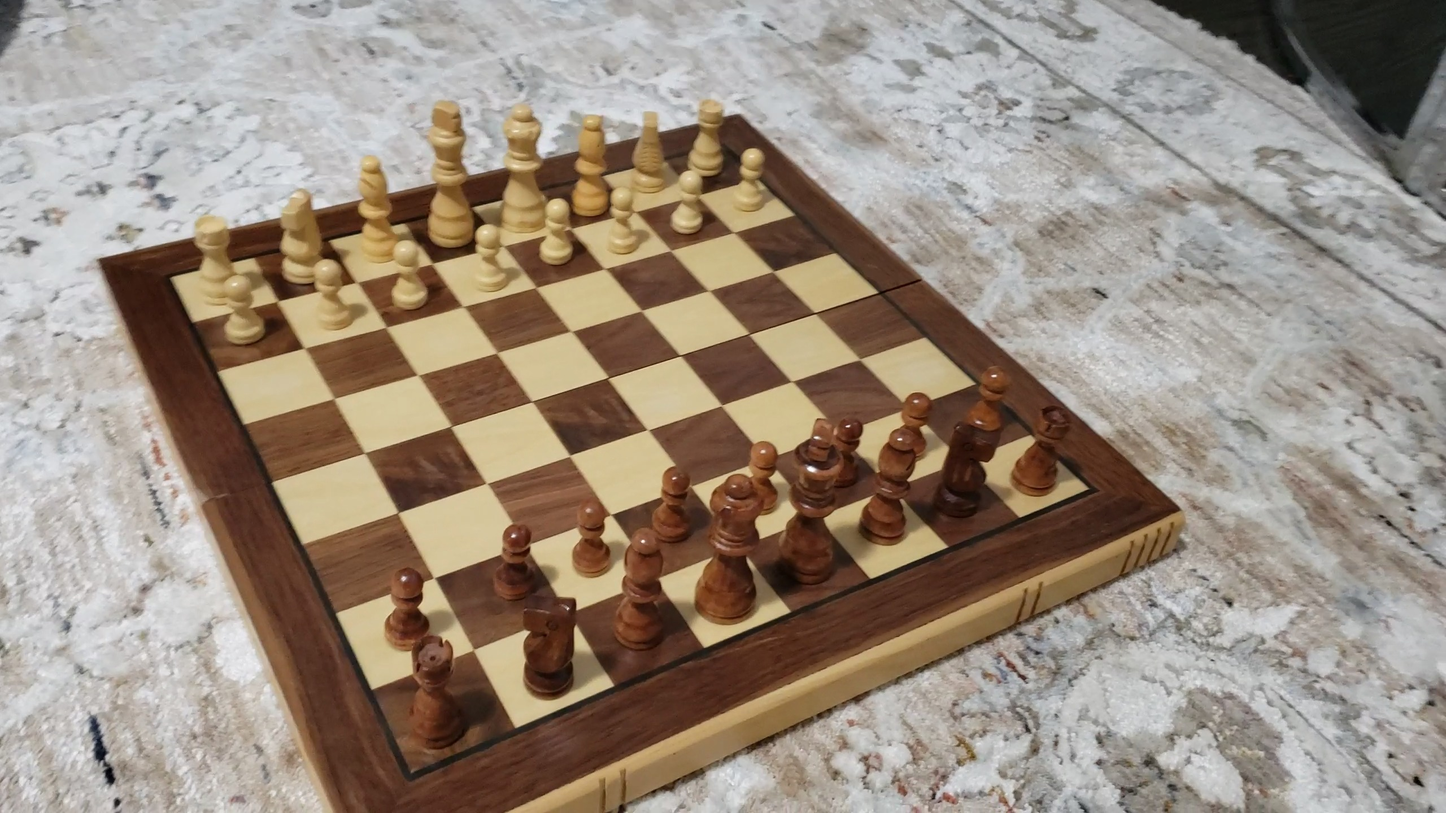black-bishop: (861, 428, 921, 545), (616, 530, 666, 651)
black-king: (779, 432, 847, 587)
black-knight: (932, 419, 1001, 518), (521, 596, 577, 698)
black-pawn: (382, 564, 432, 653), (491, 521, 537, 603), (737, 436, 782, 515), (570, 499, 612, 579), (967, 360, 1011, 436), (654, 462, 694, 544), (891, 388, 935, 458), (829, 413, 865, 487)
black-queen: (695, 473, 763, 626)
black-rook: (406, 636, 467, 751), (1011, 404, 1074, 499)
white-bishop: (354, 151, 395, 264), (570, 110, 609, 220)
white-king: (425, 95, 474, 250)
white-knight: (276, 186, 323, 286), (632, 106, 668, 195)
white-pawn: (212, 270, 273, 351), (382, 223, 434, 316), (303, 255, 356, 336), (598, 180, 648, 260), (464, 220, 516, 296), (663, 163, 711, 240), (533, 195, 580, 271), (726, 143, 774, 217)
white-queen: (500, 100, 547, 234)
white-rook: (190, 211, 239, 306), (687, 95, 728, 181)
